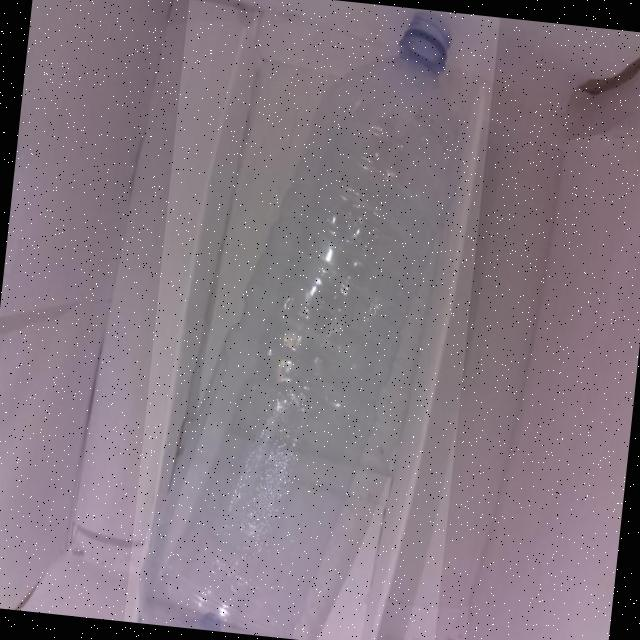bottle: (122, 0, 499, 640)
